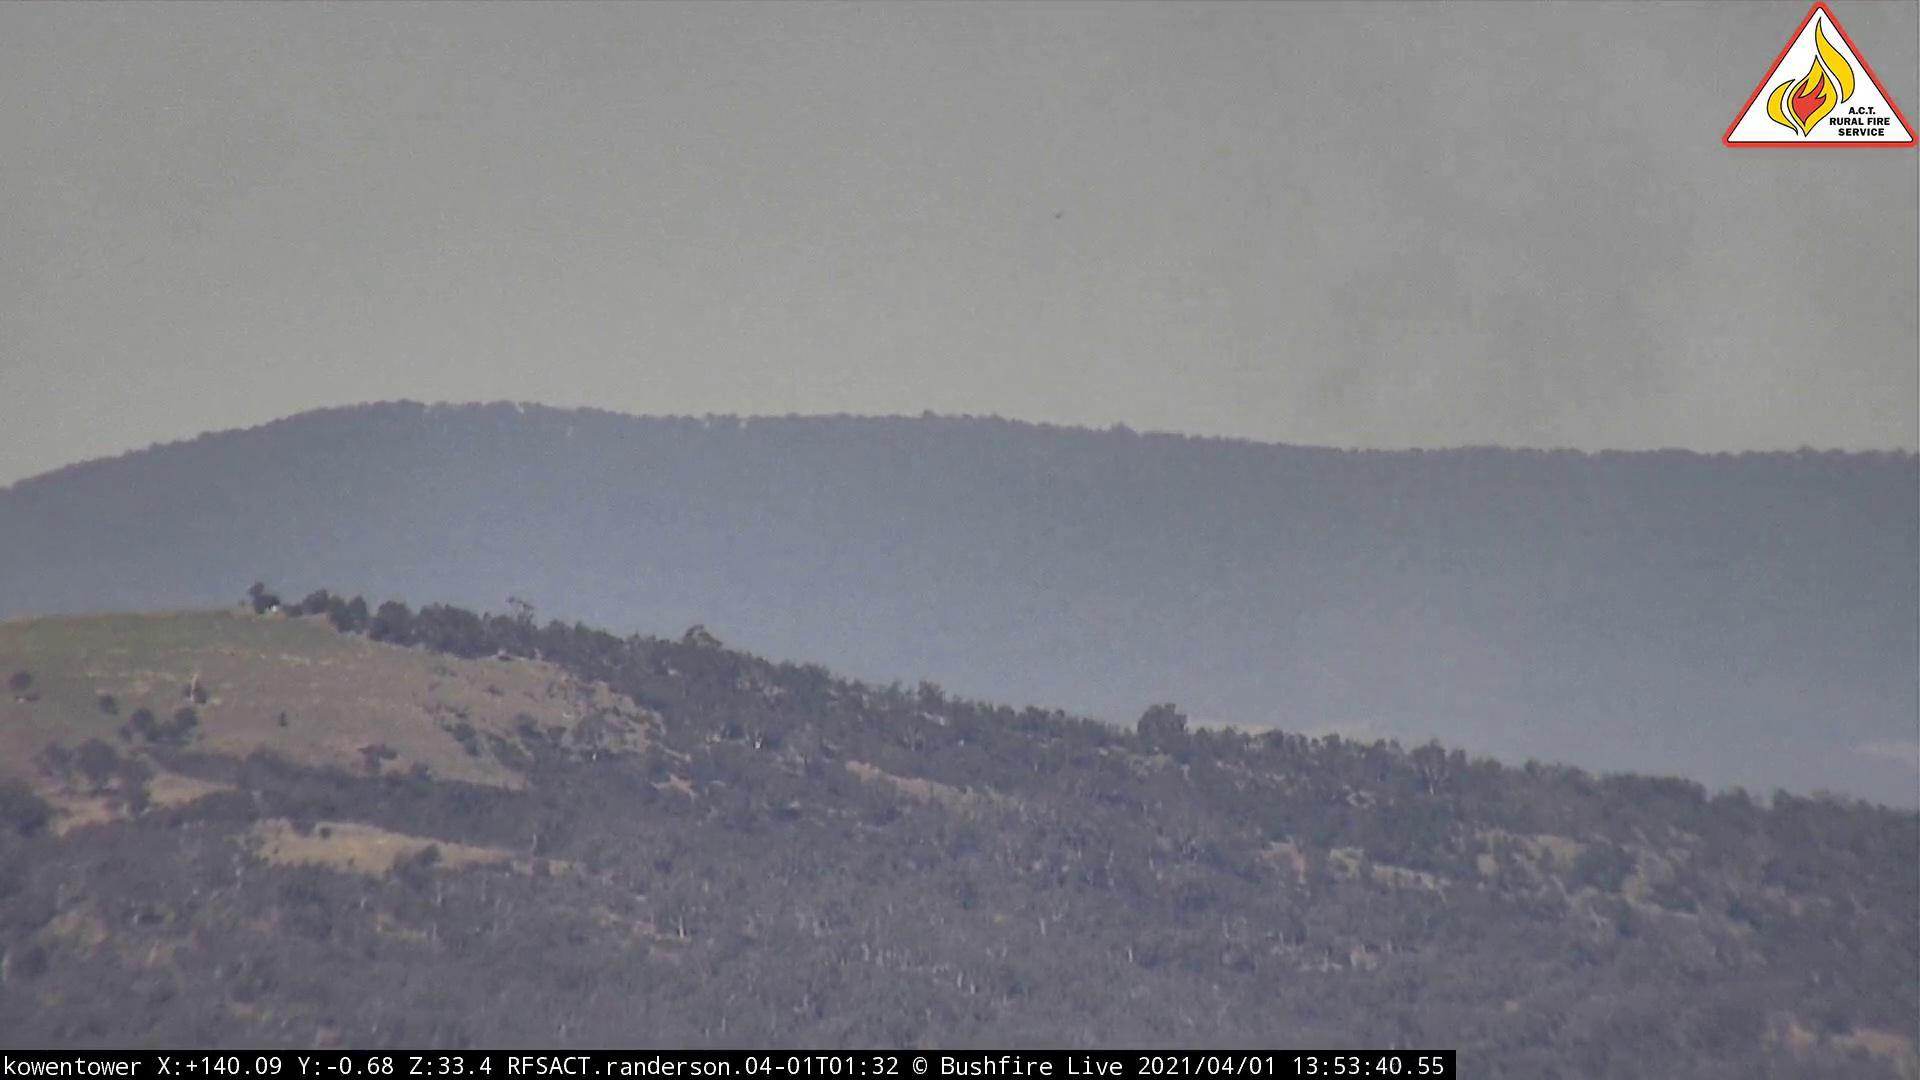Smoke: (1158, 5, 1698, 778)
